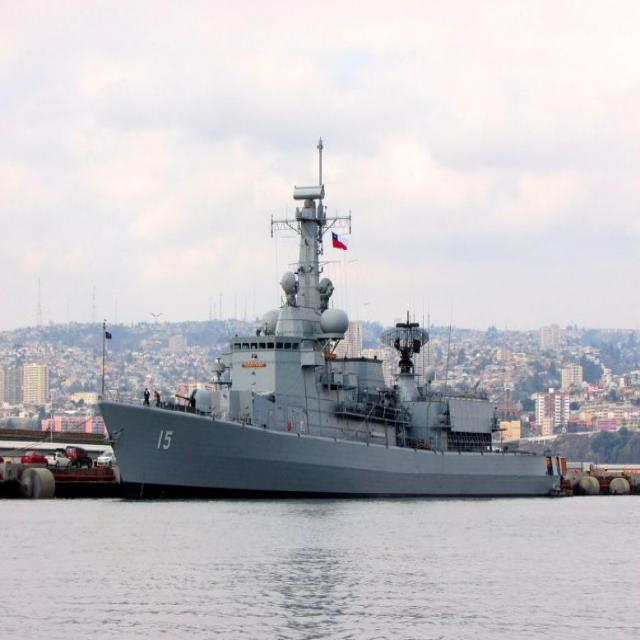Fragata: (95, 141, 565, 509)
